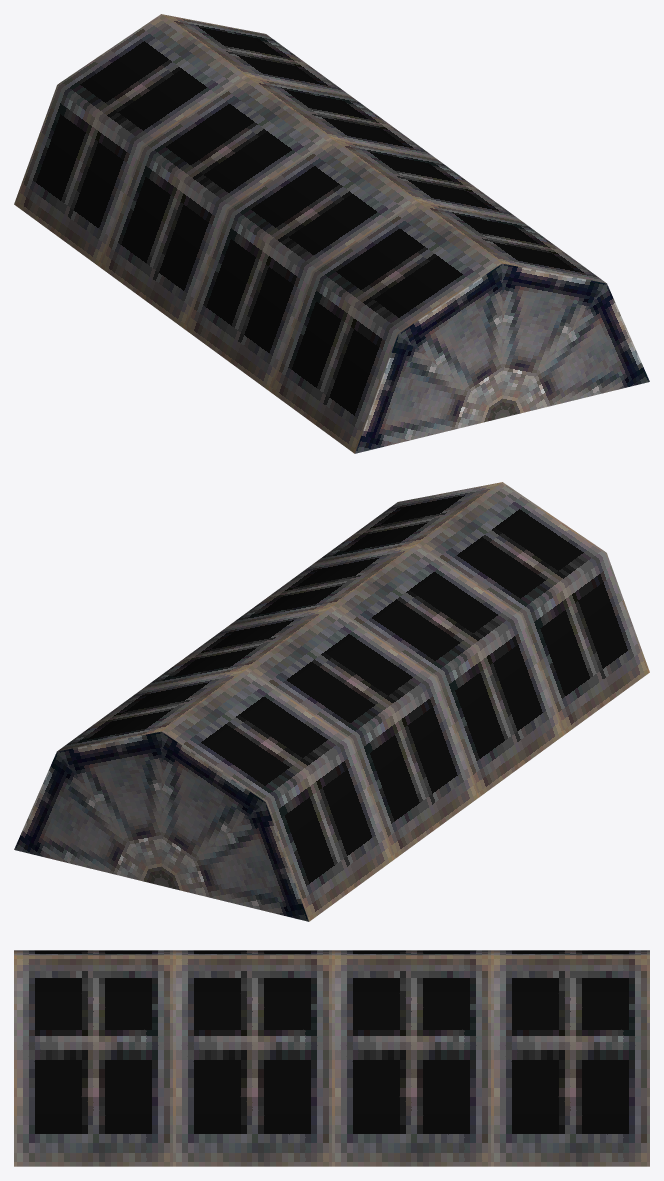
The picture shows the model from 3 angles, top to bottom: view 1: azimuth 30°, elevation 25°; view 2: azimuth 150°, elevation 25°; view 3: azimuth 270°, elevation 25°; orthographic projection. The views are drawn at different scales.
Parts seen in each view (by area): view 1: Joke_obj_070; view 2: Joke_obj_070; view 3: Joke_obj_070.
Boxes of the visible parts, x1,y1,x2,y2 form: Joke_obj_070: [14, 14, 649, 453]; Joke_obj_070: [14, 482, 649, 921]; Joke_obj_070: [14, 950, 649, 1166].
Size of the model in its own units: 2 by 1 by 4.
Materials: 2 (2 with a texture image).
